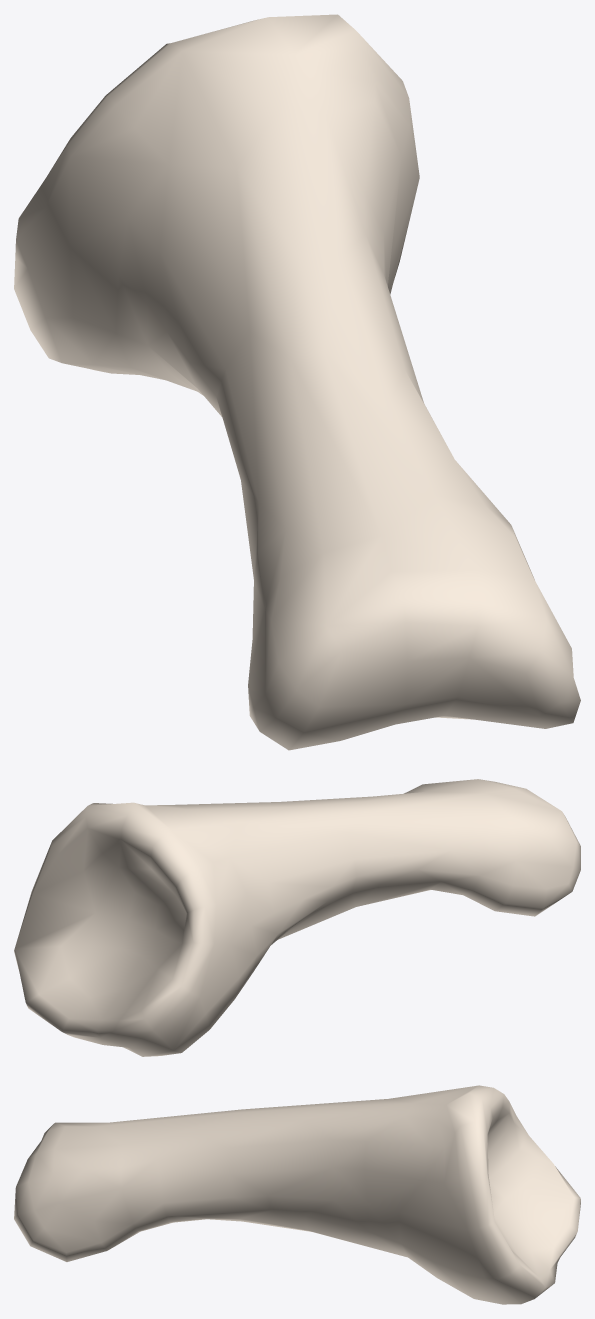
The model's file is right_toe_3_proximal.glb.
3 views of the same model, one above another, from view 1: azimuth 30°, elevation 25°; view 2: azimuth 150°, elevation 25°; view 3: azimuth 270°, elevation 25° (orthographic). The views are drawn at different scales.
Visible parts, largest first — view 1: Proximal phalanx of third finger of foot.r; view 2: Proximal phalanx of third finger of foot.r; view 3: Proximal phalanx of third finger of foot.r.
Part boxes in pixels (left/top/right/bottom): Proximal phalanx of third finger of foot.r: left=14, top=14, right=580, bottom=750; Proximal phalanx of third finger of foot.r: left=14, top=779, right=580, bottom=1056; Proximal phalanx of third finger of foot.r: left=14, top=1085, right=580, bottom=1304.
Bounding box in the file's own units: 0.0172 × 0.0114 × 0.0295.
